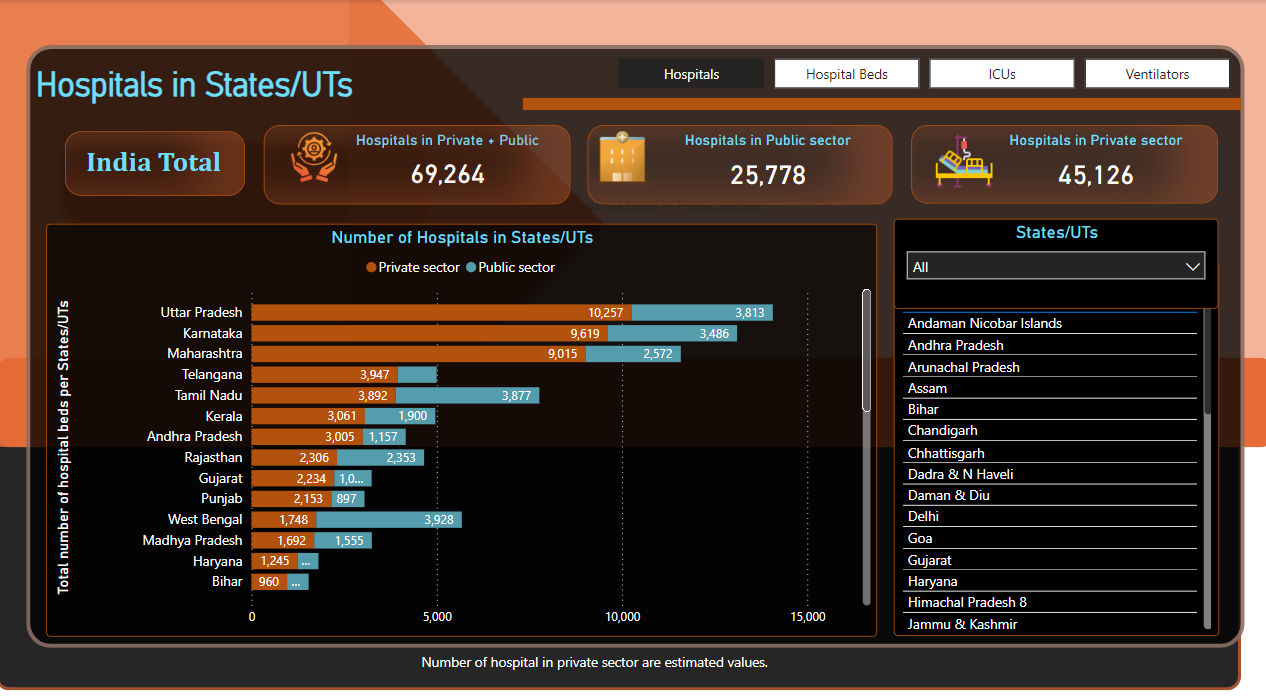

What the dashboard file says about the page in this screenshot:
{"tool":"powerbi","page":{"name":"Hospitals","canvas":[1280,720],"ordinal":0},"visuals":[{"type":"shape","box":[91.7,137.5,364.9,84.7],"z":0},{"type":"shape","box":[452.5,117.9,382,81.6],"z":1000},{"type":"shape","box":[29.9,43.7,1219,402.9],"z":2000},{"type":"shape","box":[29.9,406.3,1219,269.4],"z":3000},{"type":"card","title":"Hospital beds in Public sector","fields":{"Values":["Sum(hospital_beds.Hospital beds in public sector)"]},"box":[545.9,192.1,279.7,65.8],"z":4000},{"type":"shape","box":[375.3,0,904.7,437.2],"z":5000},{"type":"shape","box":[30.2,0,595.3,437.2],"z":6000},{"type":"shape","box":[30.2,349.2,1249.8,88],"z":7000},{"type":"shape","box":[59.7,43.9,1191.9,589.8],"z":8000},{"type":"barChart","title":"Number of Hospitals in States/UTs","fields":{"Y":["Sum(ICU beds count in India - Statewise.Number of ICU beds in private sector)","Sum(ICU beds count in India - Statewise.Number of ICU beds in public sector)"],"Category":["ICU beds count in India - Statewise.States/UTs"]},"box":[79.5,218.7,812.7,403.9],"z":9000},{"type":"shape","box":[545.5,95.7,703.4,12.4],"z":10000},{"type":"image","box":[597.1,123.4,92.9,62.3],"z":11000},{"type":"image","box":[297.4,122.2,88.2,63.5],"z":12000},{"type":"tableEx","fields":{"Values":["Hospitals count in India - Statewise.States/UTs"]},"box":[908.4,258.5,318.1,364.1],"z":13000},{"type":"slicer","title":"States/UTs","fields":{"Values":["Hospitals count in India - Statewise.States/UTs"]},"box":[908.6,214,317.9,88],"z":14000},{"type":"textbox","box":[441.4,634,450.5,32.2],"z":15000},{"type":"shape","box":[925.9,121.9,300.3,76.8],"z":16000},{"type":"card","title":"Hospitals in Private sector","fields":{"Values":["Sum(Hospitals count in India - Statewise.Number of hospitals in private sector)"]},"box":[999,128.2,214.8,66.2],"z":17000},{"type":"image","box":[934.4,122.2,87,69.3],"z":18000},{"type":"shape","box":[609.3,121.9,298.4,77.7],"z":19000},{"type":"shape","box":[97.4,128.3,176.2,63.4],"z":20000},{"type":"card","title":"Hospitals in Private + Public","fields":{"Values":["Sum(Hospitals count in India - Statewise.Total number of hospitals (public+private))"]},"box":[355.5,128.3,232.3,64.2],"z":21000},{"type":"card","title":"Hospitals in Public sector","fields":{"Values":["Sum(Hospitals count in India - Statewise.Number of hospitals in public sector)"]},"box":[678.5,128.2,213.7,67.3],"z":22000},{"type":"textbox","box":[64.6,57.2,392.7,51],"z":23000},{"type":"pageNavigator","box":[640,57.2,600.2,29.8],"z":24000},{"type":"textbox","box":[114.2,137.2,160.2,53.7],"z":25000},{"type":"shape","box":[292.2,122.1,299.9,77.3],"z":26000}]}

Visuals, with their boxes in screenshot pixels (x1, y1, x2, y2), scaled from the page's 1280x720 canvas onto the 1266x699 screenshot:
shape: {"left": 91, "top": 133, "right": 452, "bottom": 216}
shape: {"left": 448, "top": 114, "right": 825, "bottom": 194}
shape: {"left": 30, "top": 42, "right": 1235, "bottom": 434}
shape: {"left": 30, "top": 394, "right": 1235, "bottom": 656}
"Hospital beds in Public sector" card: {"left": 540, "top": 186, "right": 817, "bottom": 250}
shape: {"left": 371, "top": 0, "right": 1265, "bottom": 424}
shape: {"left": 30, "top": 0, "right": 619, "bottom": 424}
shape: {"left": 30, "top": 339, "right": 1265, "bottom": 424}
shape: {"left": 59, "top": 43, "right": 1238, "bottom": 615}
"Number of Hospitals in States/UTs" barChart: {"left": 79, "top": 212, "right": 882, "bottom": 604}
shape: {"left": 540, "top": 93, "right": 1235, "bottom": 105}
image: {"left": 591, "top": 120, "right": 682, "bottom": 180}
image: {"left": 294, "top": 119, "right": 381, "bottom": 180}
tableEx - Hospitals count in India - Statewise.States/UTs: {"left": 898, "top": 251, "right": 1213, "bottom": 604}
"States/UTs" slicer: {"left": 899, "top": 208, "right": 1213, "bottom": 293}
textbox: {"left": 437, "top": 616, "right": 882, "bottom": 647}
shape: {"left": 916, "top": 118, "right": 1213, "bottom": 193}
"Hospitals in Private sector" card: {"left": 988, "top": 124, "right": 1201, "bottom": 189}
image: {"left": 924, "top": 119, "right": 1010, "bottom": 186}
shape: {"left": 603, "top": 118, "right": 898, "bottom": 194}
shape: {"left": 96, "top": 125, "right": 271, "bottom": 186}
"Hospitals in Private + Public" card: {"left": 352, "top": 125, "right": 581, "bottom": 187}
"Hospitals in Public sector" card: {"left": 671, "top": 124, "right": 882, "bottom": 190}
textbox: {"left": 64, "top": 56, "right": 452, "bottom": 105}
pageNavigator: {"left": 633, "top": 56, "right": 1227, "bottom": 84}
textbox: {"left": 113, "top": 133, "right": 271, "bottom": 185}
shape: {"left": 289, "top": 119, "right": 586, "bottom": 194}
